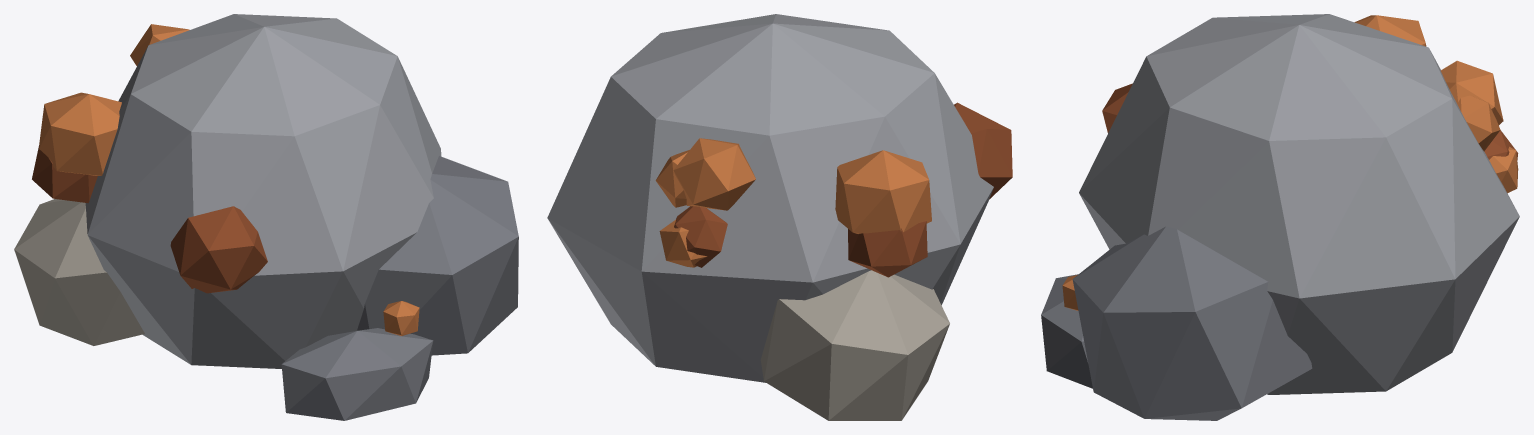
The model's file is rock_iron.glb.
3 renders of one model, left to right at view 1: azimuth 30°, elevation 25°; view 2: azimuth 150°, elevation 25°; view 3: azimuth 270°, elevation 25°, orthographic. The views are drawn at different scales.
Visible parts, largest first — view 1: rock_iron; view 2: rock_iron; view 3: rock_iron.
Boxes of the visible parts, x1=… form: rock_iron: x1=14, y1=14, x2=518, y2=420; rock_iron: x1=547, y1=14, x2=1012, y2=420; rock_iron: x1=1041, y1=14, x2=1519, y2=420.
Bounding box in the file's own units: 1.03 × 0.84 × 1.01.
